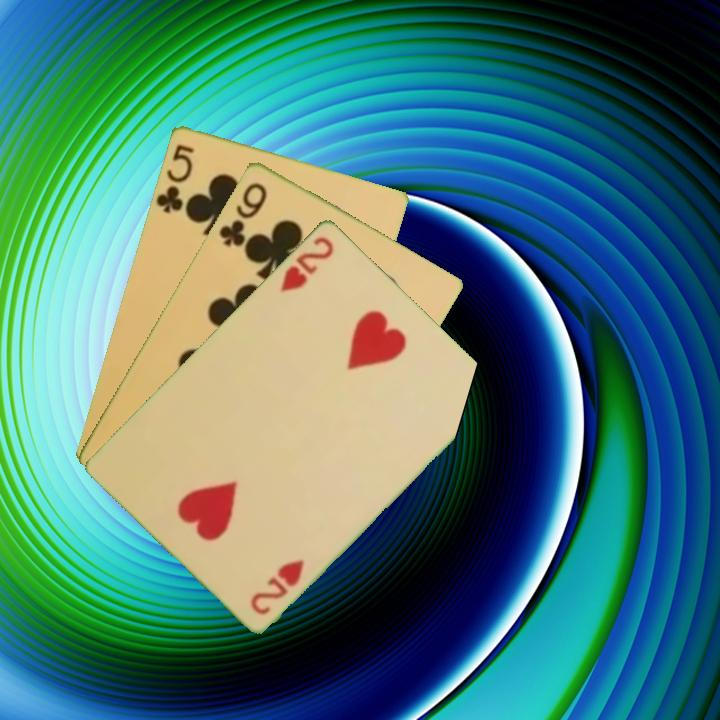2h: (276, 232, 337, 295), (247, 555, 308, 618)
5c: (152, 140, 197, 216)
9c: (215, 178, 270, 250)
